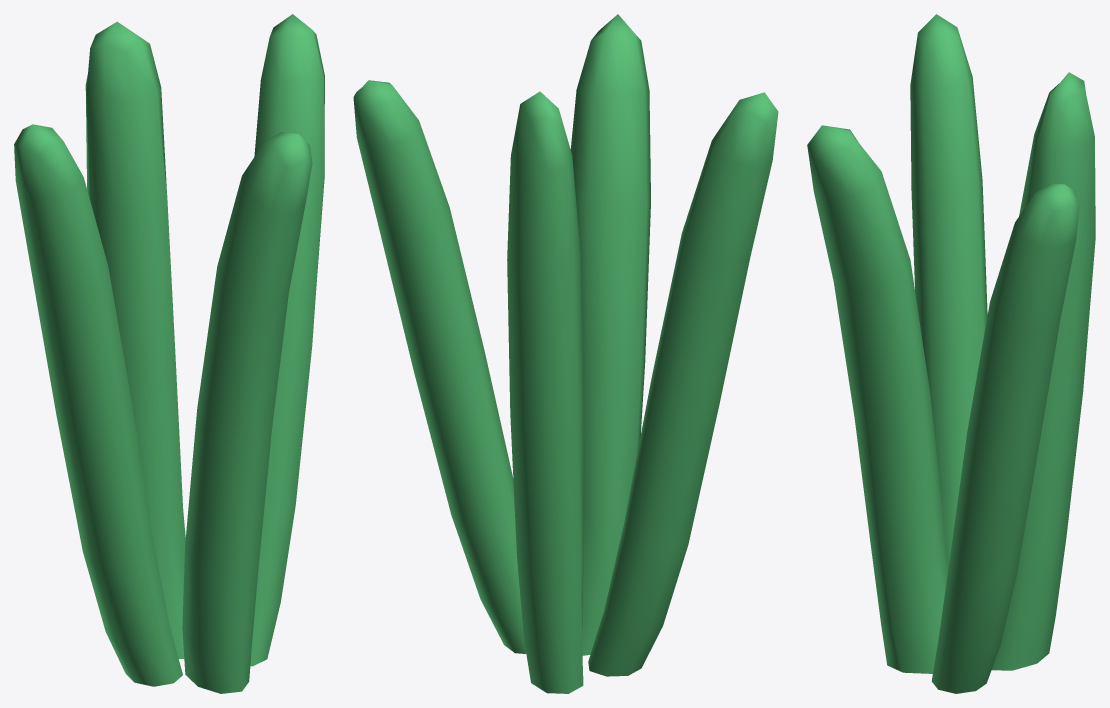
File: Grass_B_02.fbx
The picture shows the model from 3 angles, left to right: view 1: azimuth 30°, elevation 25°; view 2: azimuth 150°, elevation 25°; view 3: azimuth 270°, elevation 25°; orthographic projection. The views are drawn at different scales.
Parts seen in each view (by area): view 1: Grass_B_02_LOD0; view 2: Grass_B_02_LOD0; view 3: Grass_B_02_LOD0.
Boxes of the visible parts, x1,y1,x2,y2 form: Grass_B_02_LOD0: (14, 14, 324, 693); Grass_B_02_LOD0: (353, 14, 778, 693); Grass_B_02_LOD0: (807, 14, 1095, 693).
Size of what is drawn, in the model's own units: 338 by 546 by 246.
